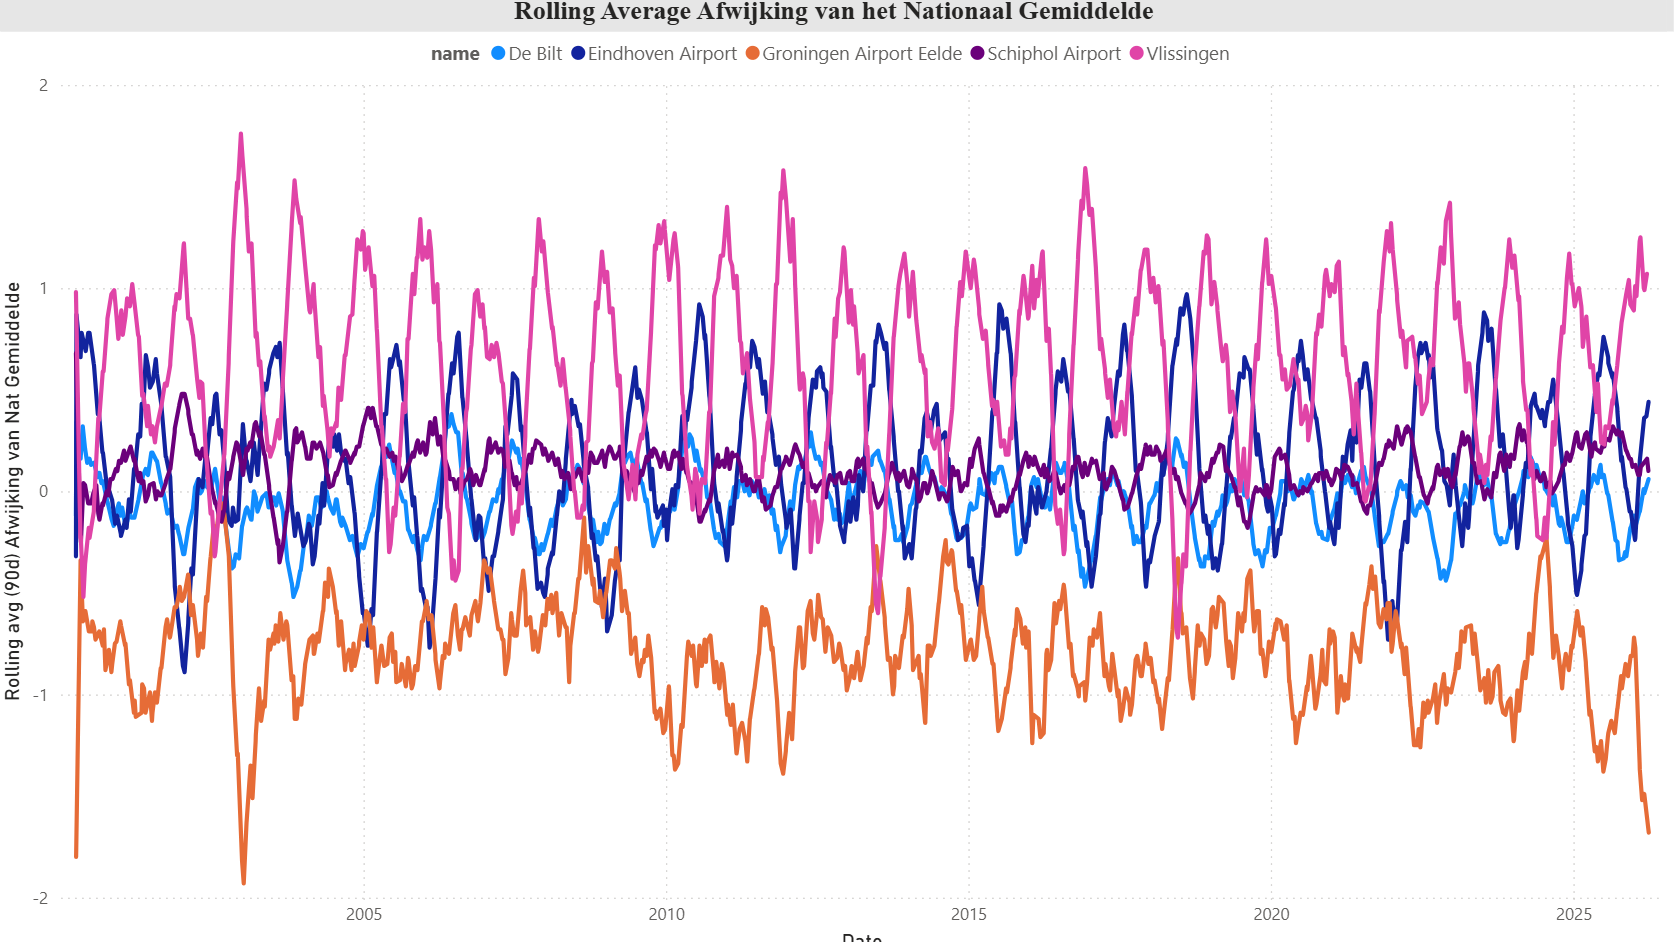

The dashboard page shown, as its layout file describes it:
{"tool":"powerbi","page":{"name":"Temperatuurafwijking Rolling Avg","canvas":[1280,720],"ordinal":3},"visuals":[{"type":"lineChart","title":"Rolling Average Afwijking van het Nationaal Gemiddelde","fields":{"Category":["deviation_rolling_avg_nat_avg.date"],"Series":["deviation_rolling_avg_nat_avg.name"],"Y":["Sum(deviation_rolling_avg_nat_avg.rolling_afwijking_90d)"]},"box":[16,32,1200,688],"z":0}]}

Visuals, with their boxes in screenshot pixels (x1, y1, x2, y2), scaled from the page's 1280x720 canvas onto the 1677x942 screenshot:
"Rolling Average Afwijking van het Nationaal Gemiddelde" lineChart: rect(21, 42, 1593, 941)
